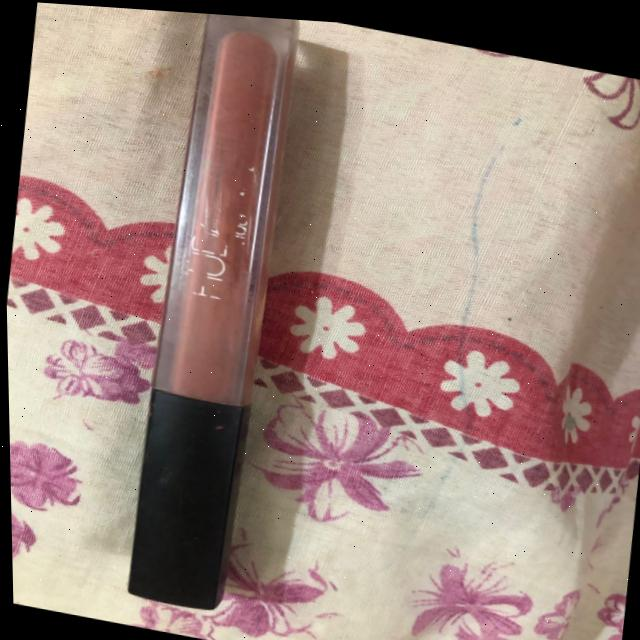lip gloss: (86, 5, 329, 633)
